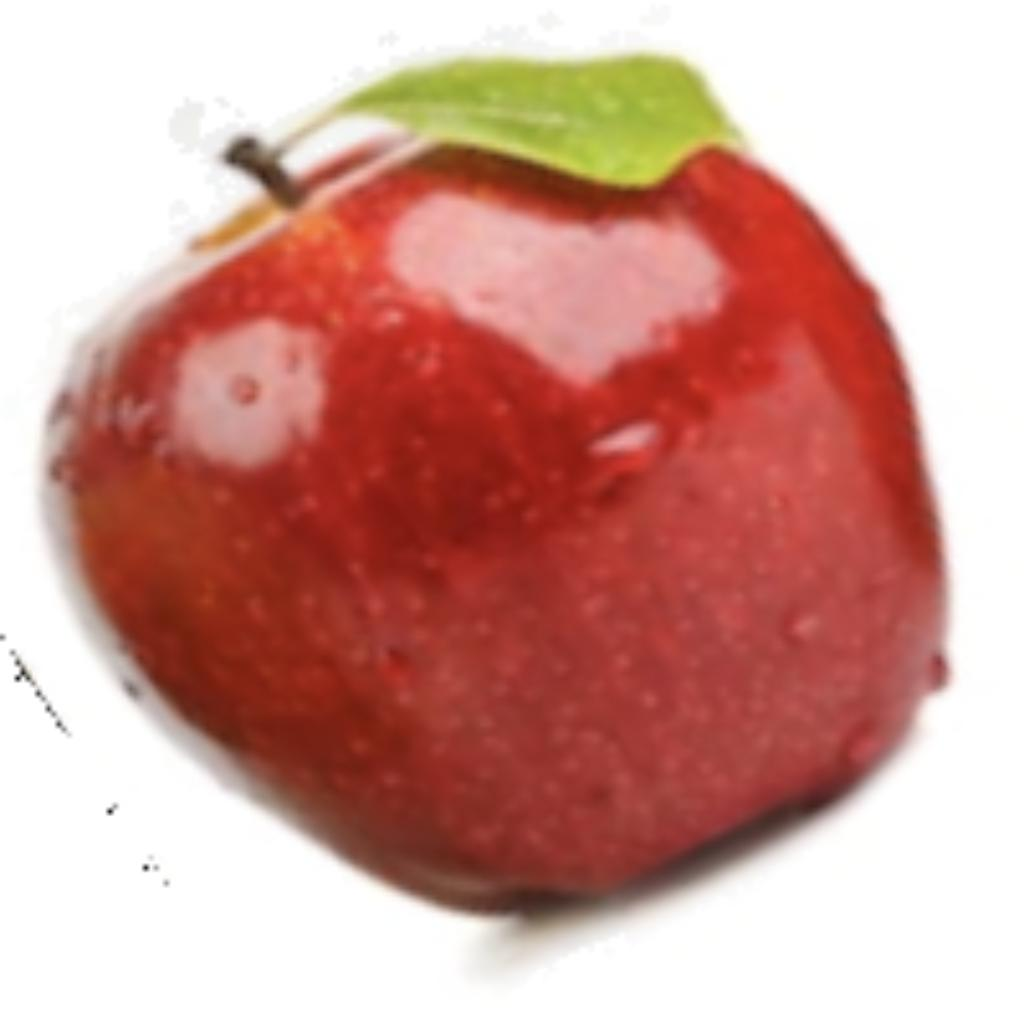apple: (26, 5, 957, 993)
